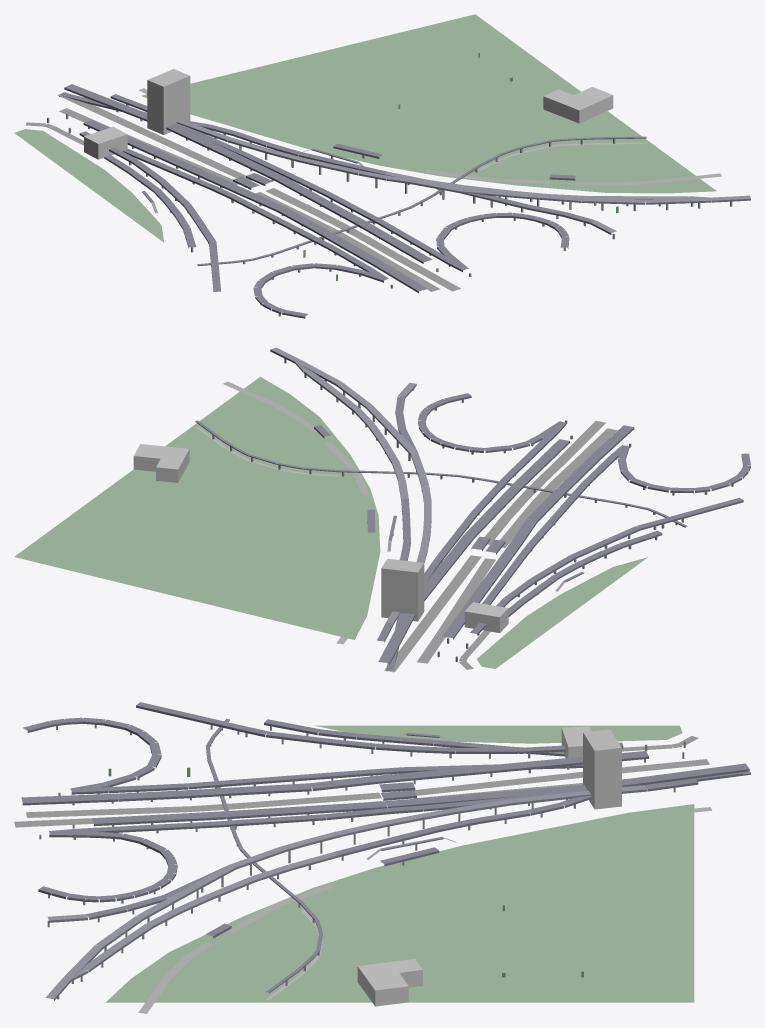
The picture shows the model from 3 angles, top to bottom: view 1: azimuth 30°, elevation 25°; view 2: azimuth 150°, elevation 25°; view 3: azimuth 270°, elevation 25°; orthographic projection. The views are drawn at different scales.
Size of the model in its own units: 545 by 51.29 by 561.
